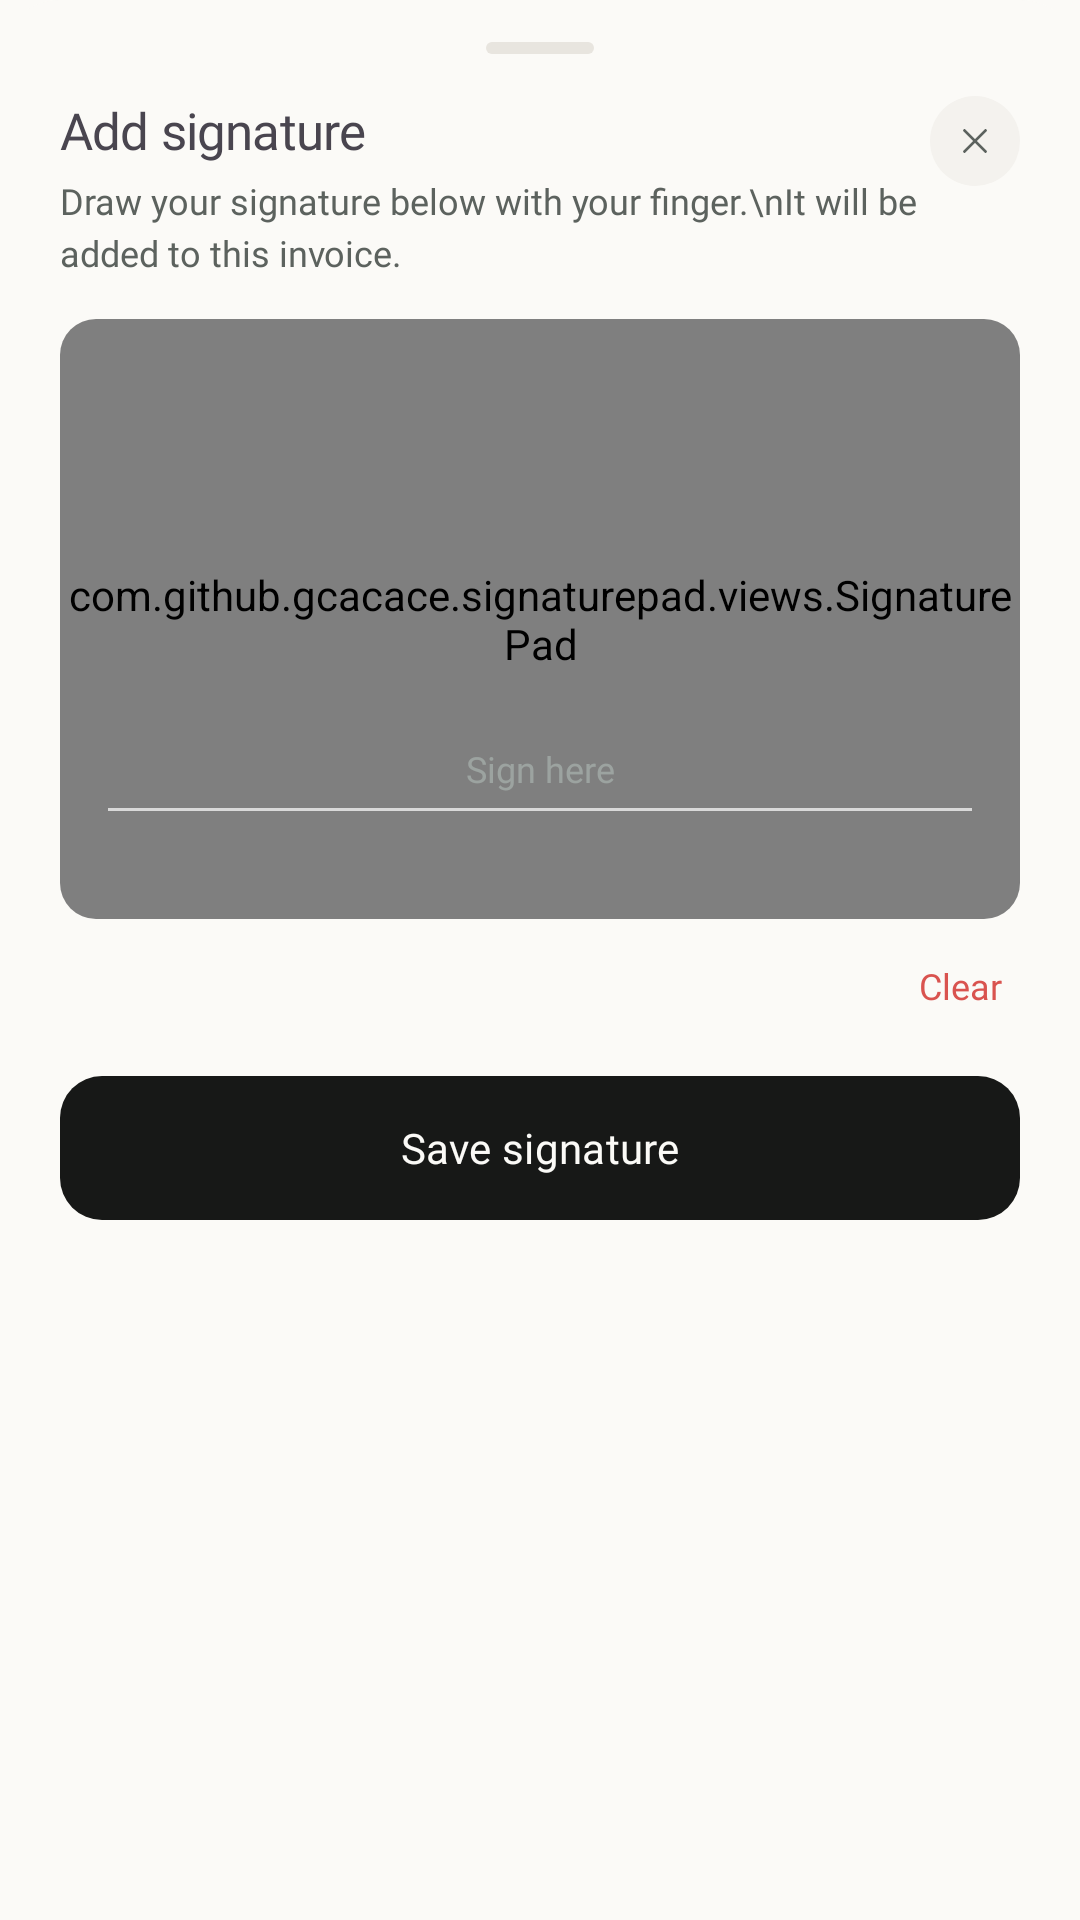

Icon click points for this 1080*1920 phone screenshot, format (x=x, y=y):
close: (x=975, y=141)
